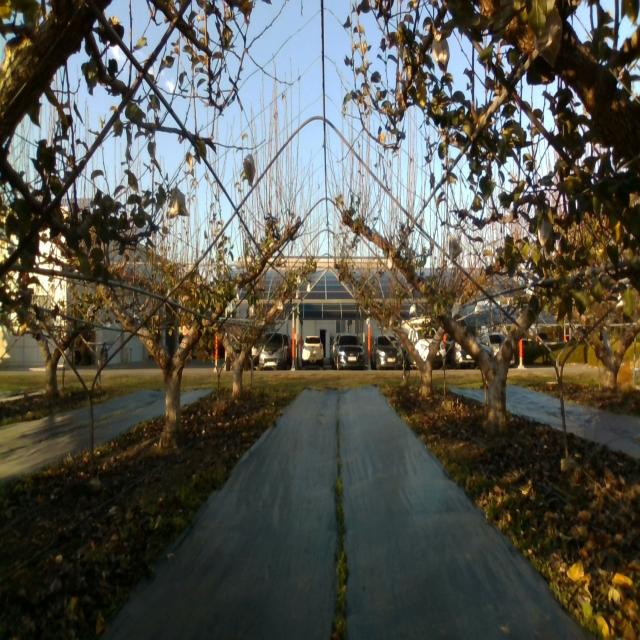pearbags: (431, 32, 450, 74), (168, 188, 190, 217), (243, 154, 255, 187), (449, 236, 463, 263)
